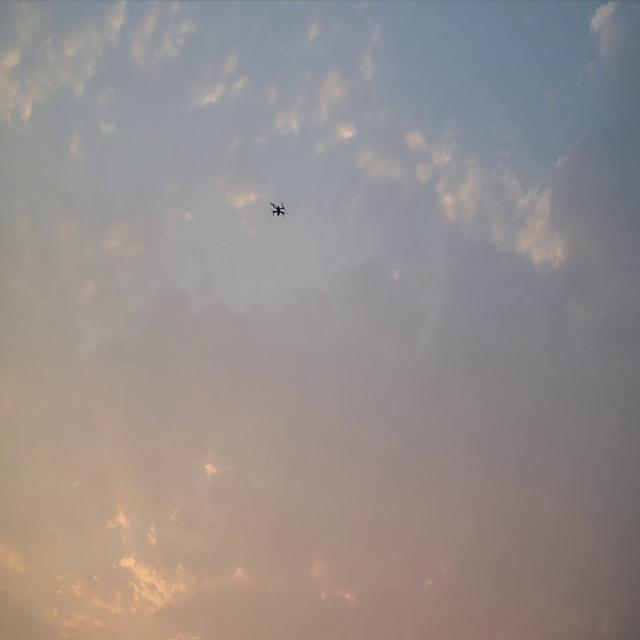UAV: (270, 202, 288, 218)
